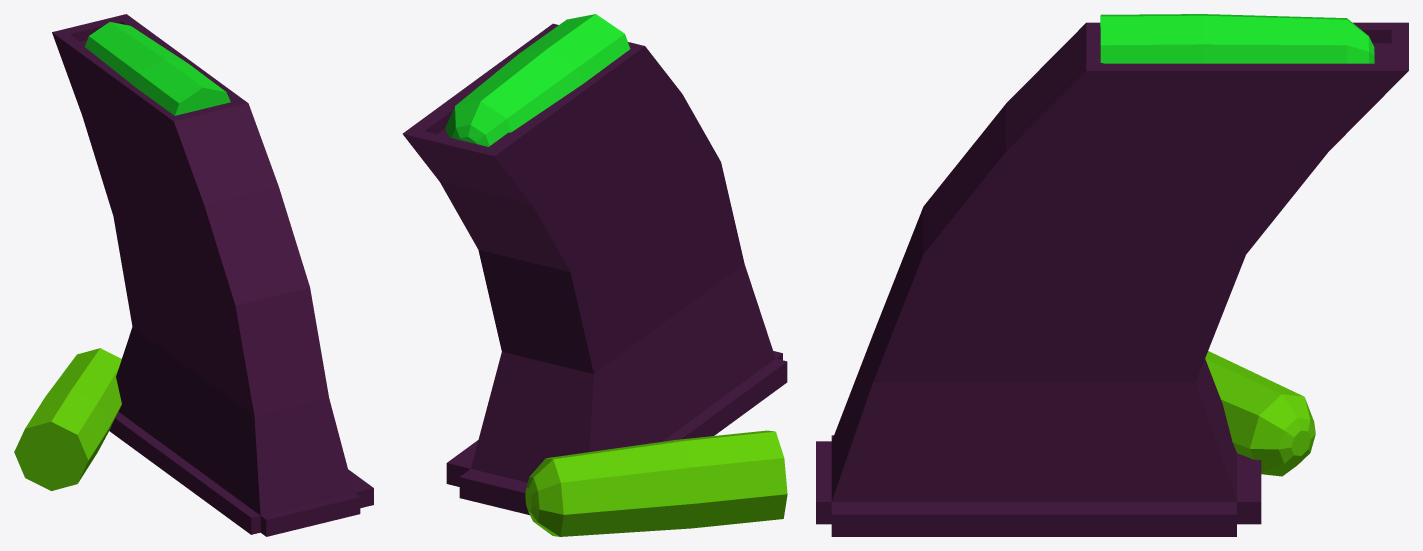
File: Municion.fbx
3 views of the same model, side by side, from view 1: azimuth 30°, elevation 25°; view 2: azimuth 150°, elevation 25°; view 3: azimuth 270°, elevation 25° (orthographic). The views are drawn at different scales.
Parts seen in each view (by area): view 1: Cube, Cylinder, Cylinder.001; view 2: Cube, Cylinder, Cylinder.001; view 3: Cube, Cylinder.001, Cylinder.
Boxes of the visible parts, x1,y1,x2,y2 form: Cube: [52, 14, 373, 536]; Cylinder: [14, 348, 121, 490]; Cylinder.001: [85, 22, 230, 115]; Cube: [402, 23, 787, 515]; Cylinder: [525, 430, 787, 536]; Cylinder.001: [445, 14, 630, 146]; Cube: [816, 22, 1408, 536]; Cylinder.001: [1100, 14, 1374, 63]; Cylinder: [1205, 351, 1315, 476].
Bounding box in the file's own units: 291 × 427 × 468.
